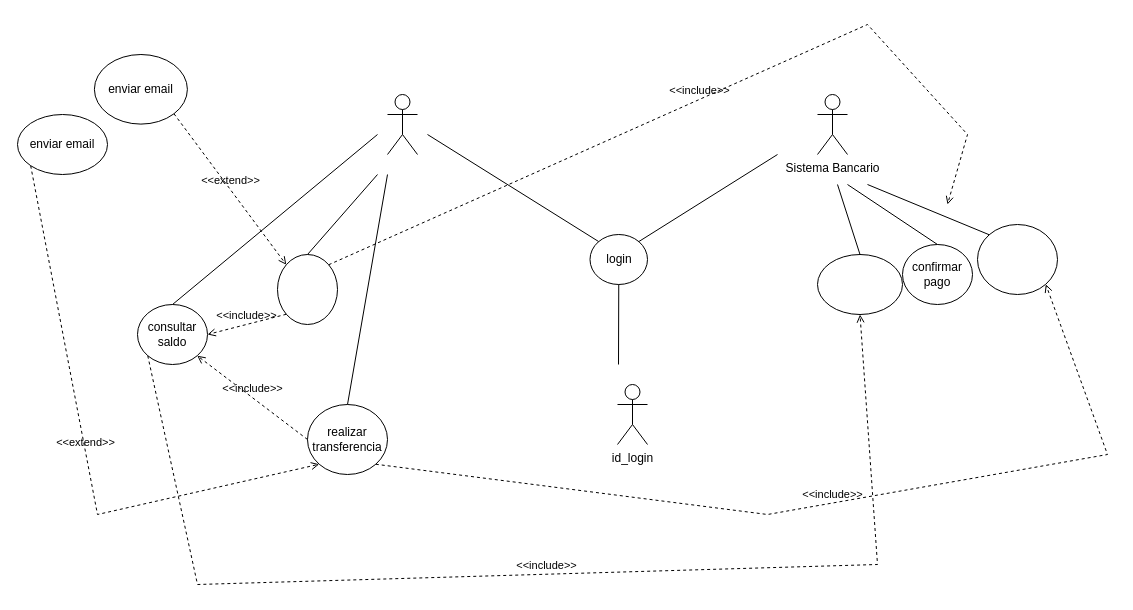
Image size: 1133x610. Some labels were removed from this diagram. The centre of each missing label's shape, as x and y in pixels:
Cliente: the point at 402,124
efectuar transferencia: the point at 1017,259
proporcionar saldo: the point at 859,284
realizar pago: the point at 307,289
